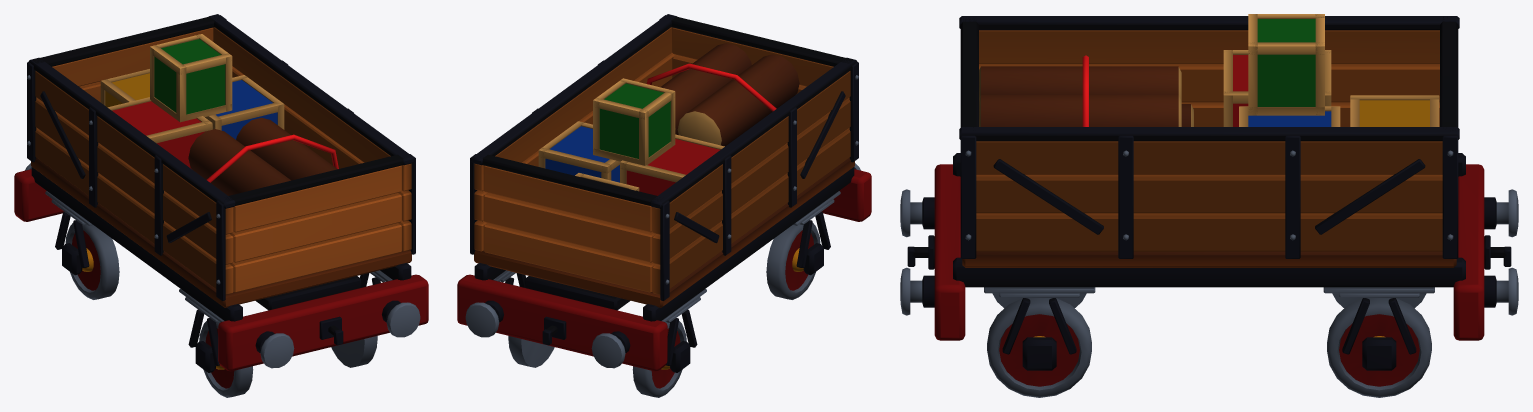
Rendered from Car_Cargo.fbx.
The picture shows the model from 3 angles, left to right: view 1: azimuth 30°, elevation 25°; view 2: azimuth 150°, elevation 25°; view 3: azimuth 270°, elevation 25°; orthographic projection. The views are drawn at different scales.
Parts seen in each view (by area): view 1: Car_Cargo, Wheel_3.005, Wheel_1.005, Wheel_0.005; view 2: Car_Cargo, Wheel_1.005, Wheel_3.005, Wheel_2.005; view 3: Car_Cargo, Wheel_0.005, Wheel_2.005.
Part boxes in pixels (box(x1,y1,x2,y2)): Car_Cargo: box(14, 14, 428, 372); Wheel_3.005: box(65, 223, 119, 299); Wheel_1.005: box(199, 321, 253, 397); Wheel_0.005: box(331, 336, 377, 367); Car_Cargo: box(457, 14, 871, 372); Wheel_1.005: box(766, 223, 820, 299); Wheel_3.005: box(632, 321, 686, 397); Wheel_2.005: box(508, 336, 554, 367); Car_Cargo: box(900, 14, 1518, 370); Wheel_0.005: box(987, 298, 1091, 397); Wheel_2.005: box(1327, 298, 1431, 397).
Size of the model in its own units: 0.96 by 1.16 by 2.
